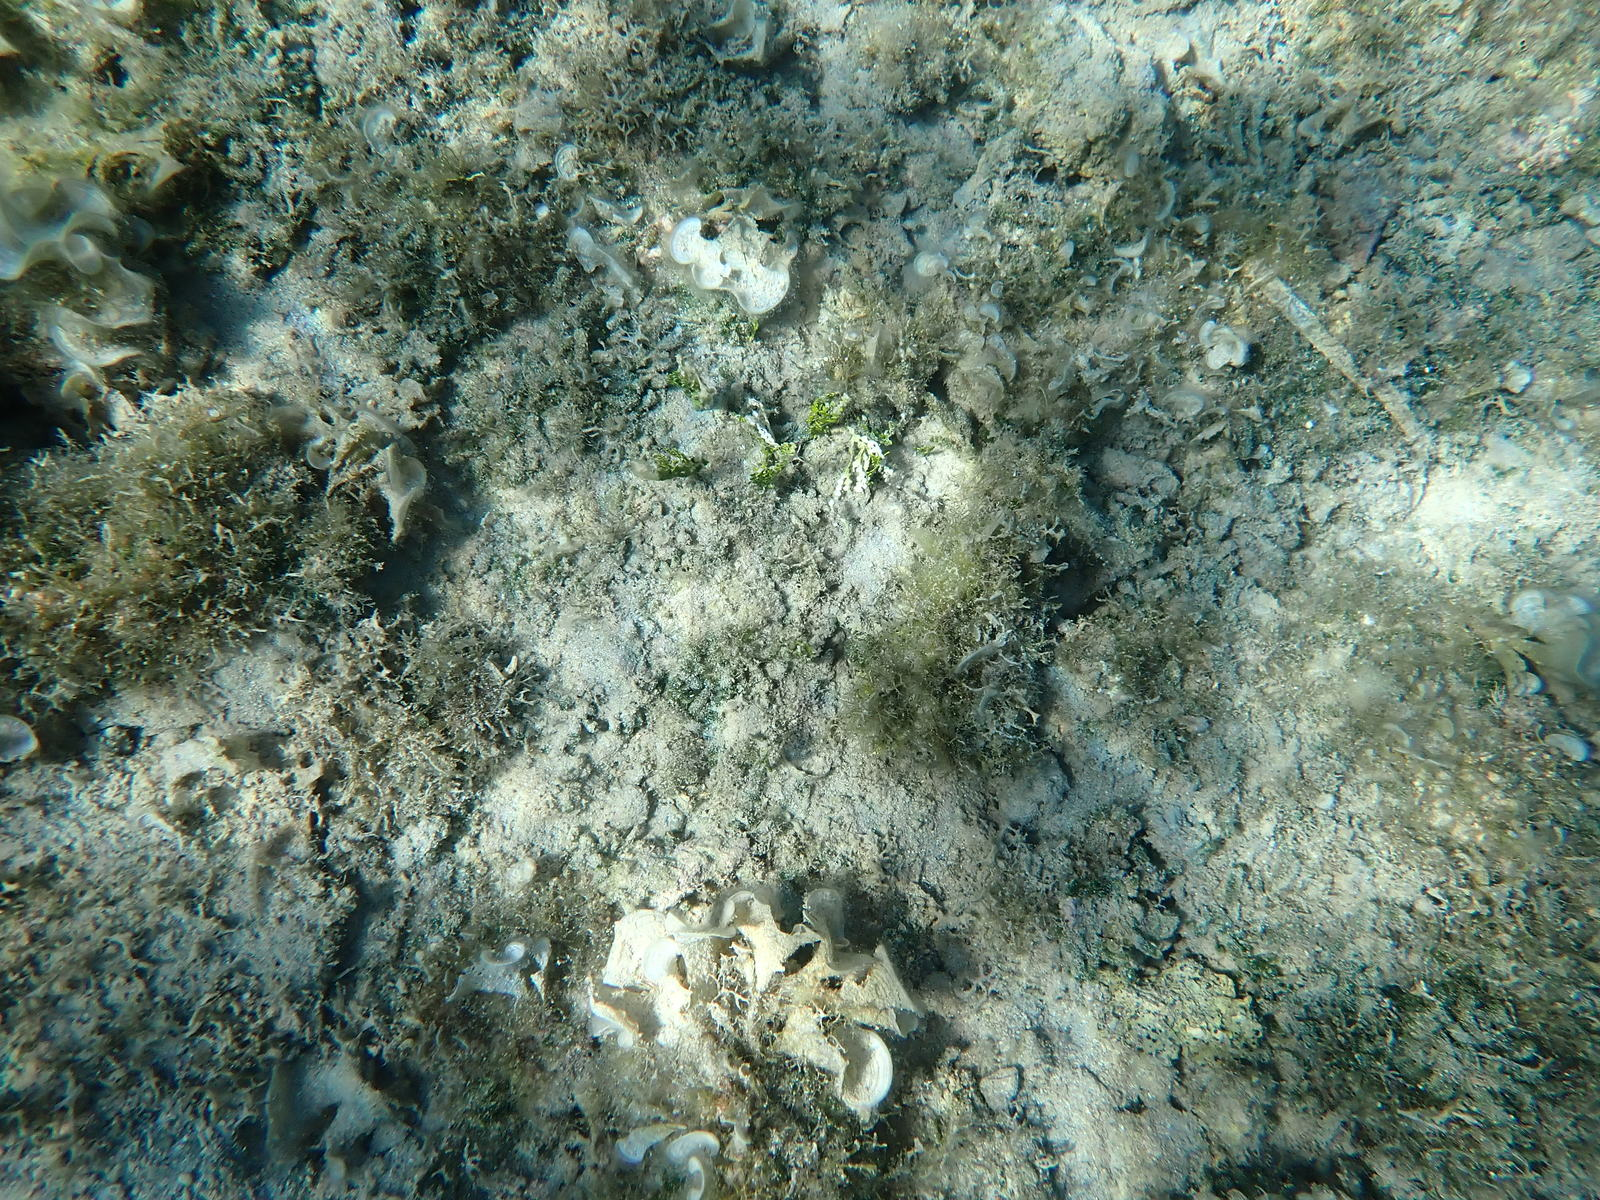halimeda: (750, 426, 803, 487), (853, 422, 892, 503), (803, 391, 855, 434), (644, 444, 698, 478), (834, 469, 854, 503), (666, 363, 683, 389), (687, 383, 700, 410), (916, 440, 935, 456), (748, 319, 758, 345), (740, 418, 745, 424)
